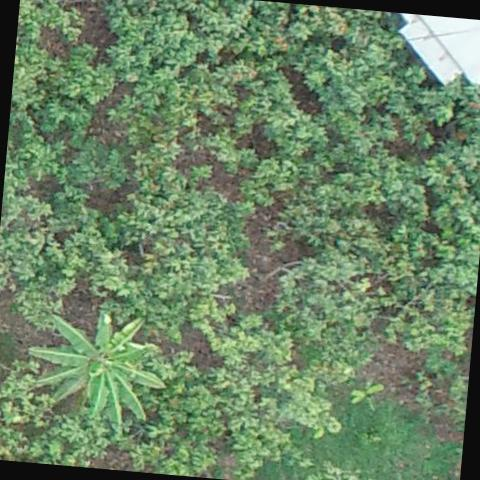Banana-plant: (20, 302, 174, 440)
